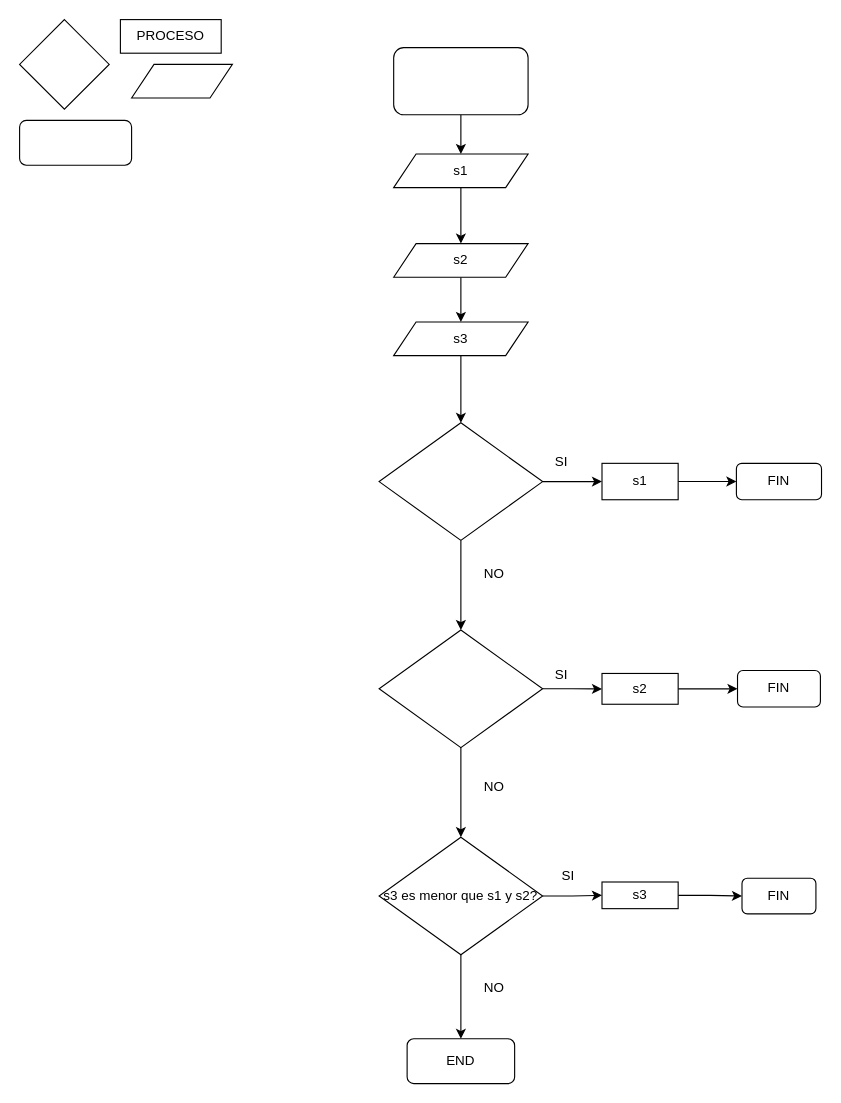
Image size: 841x1103. Some labels were removed from this diagram. The shapes that lost their labels are listed below. From the top down, each one's centre as x and y in pixels, then its label:
point 63,63: PREGUNTA
point 181,80: IN-OUT
point 460,80: EXERCISE 1: INICIO
point 75,142: INICIO-FINAL
point 460,481: s1 es menor que s2 y s3?
point 460,688: s2 es menor que s1 y s3?
